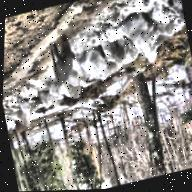boar: (45, 34, 80, 87)
